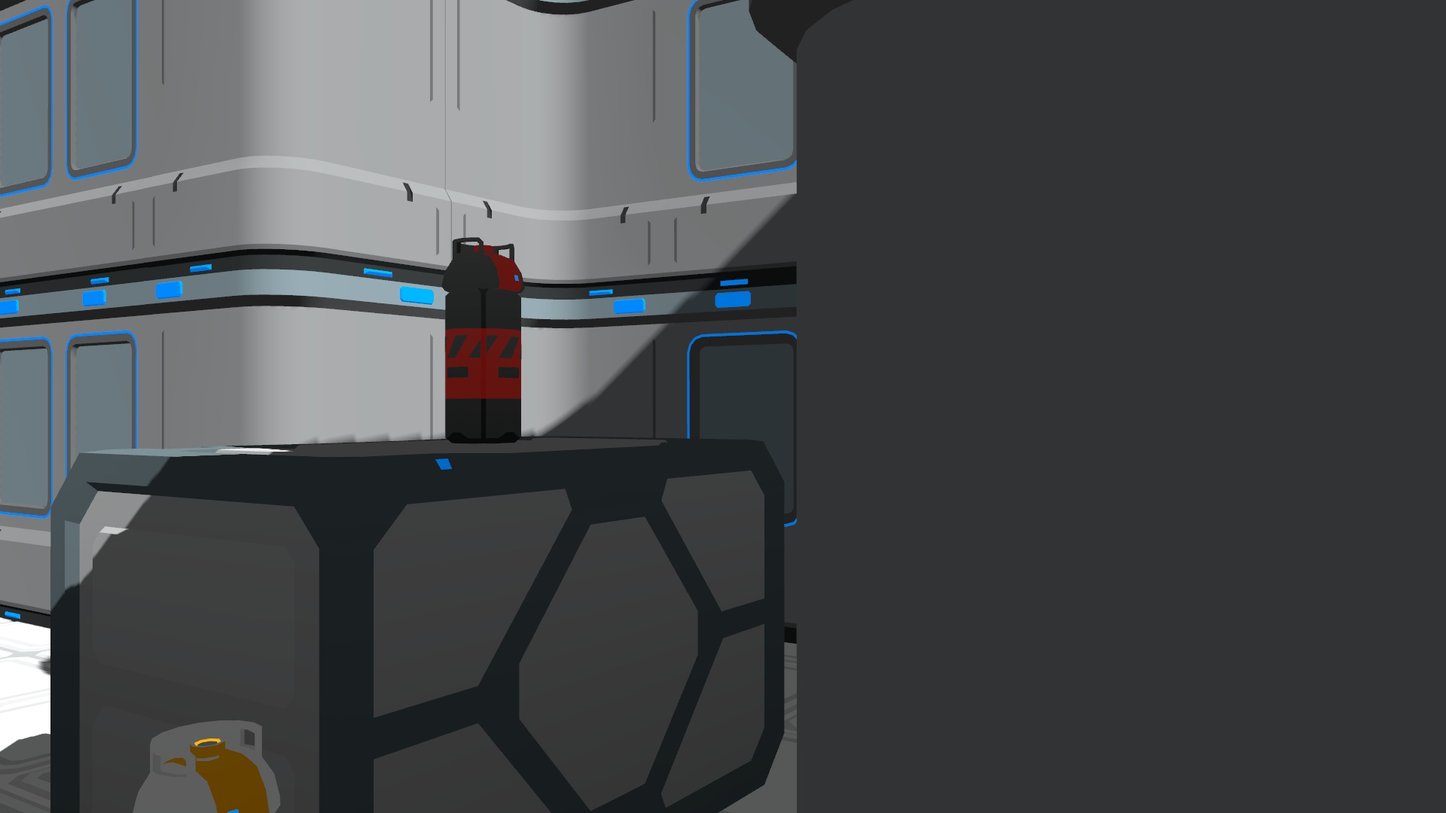red_barrel: (444, 230, 525, 447)
yellow_barrel: (139, 719, 285, 813)
